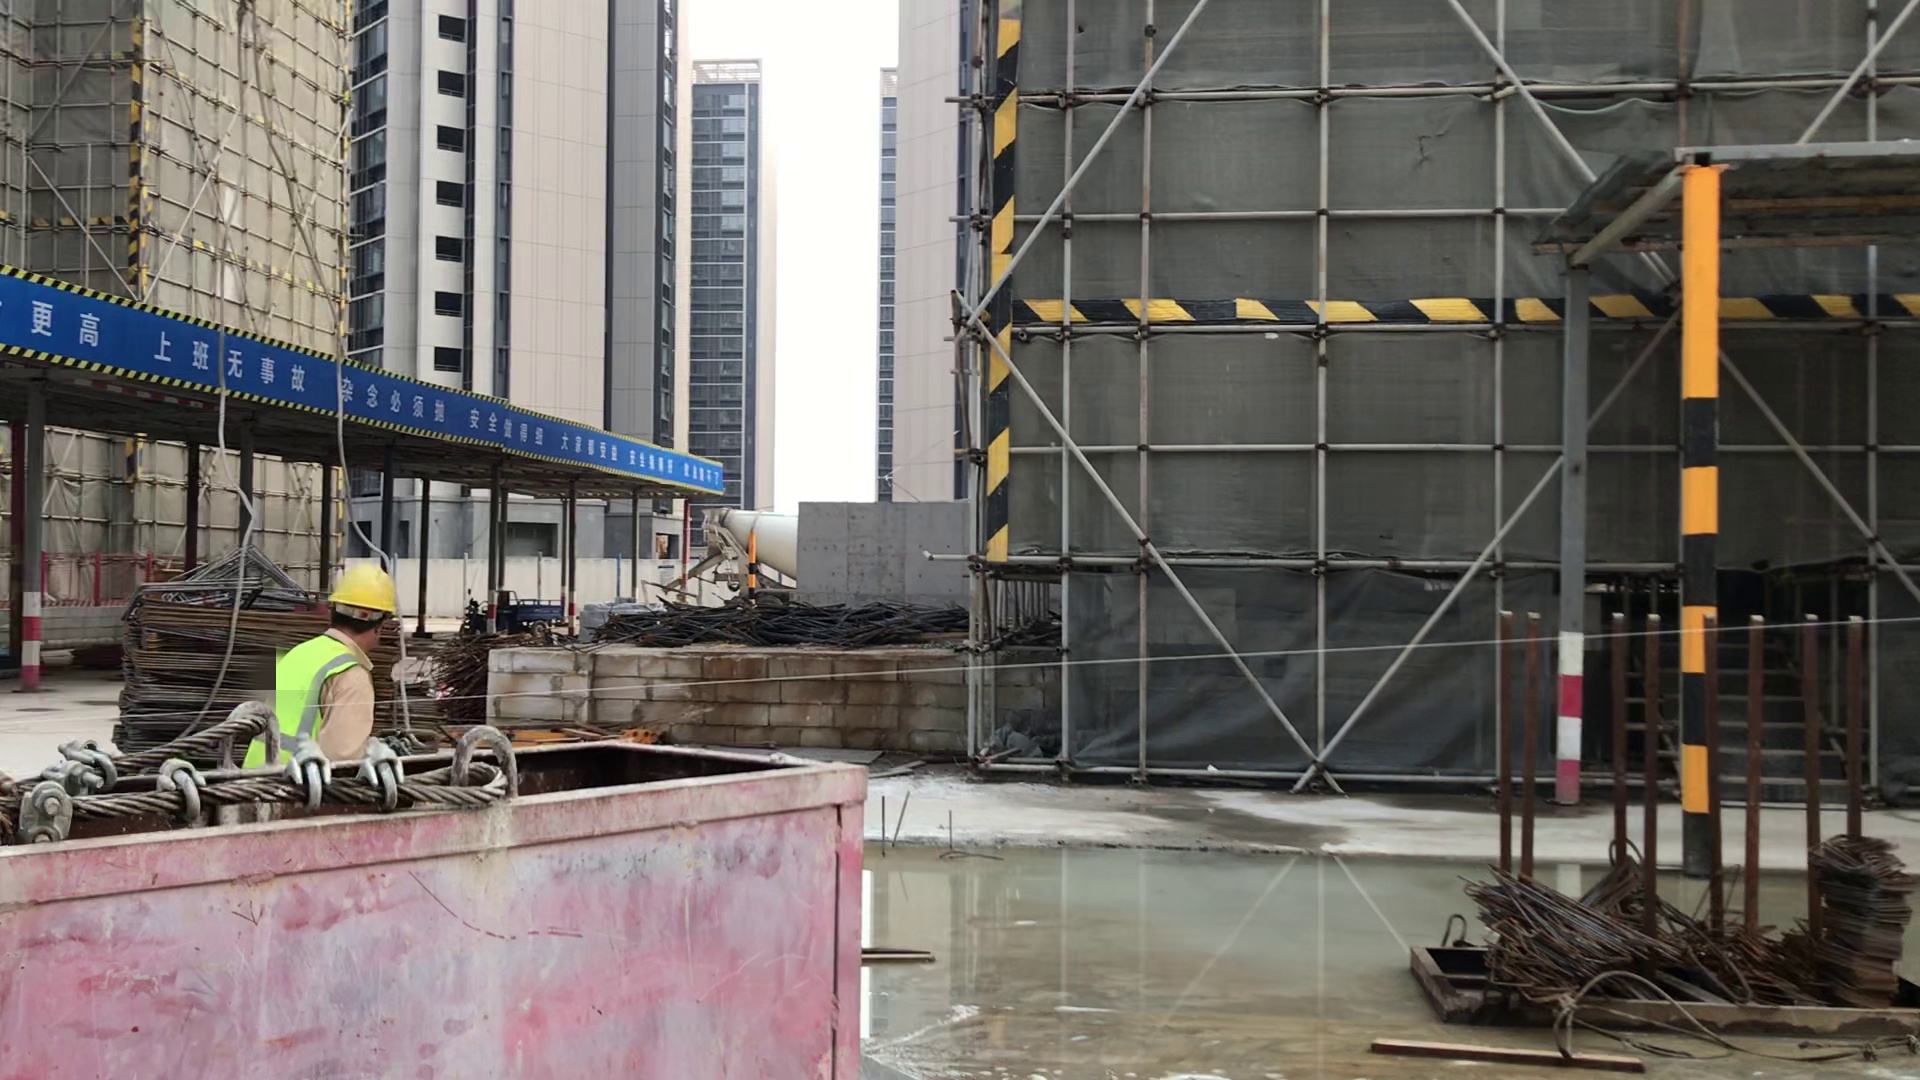helmet: (333, 565, 404, 617)
person: (279, 542, 393, 761)
slogan: (6, 307, 722, 498)
vest: (259, 641, 390, 771)
